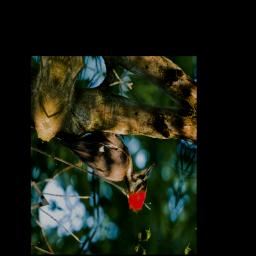Woodpecker: (46, 104, 160, 217)
